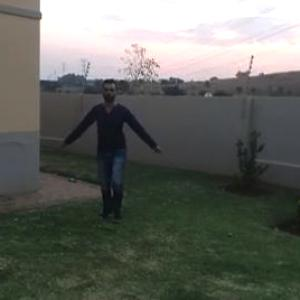land: (64, 76, 172, 215)
